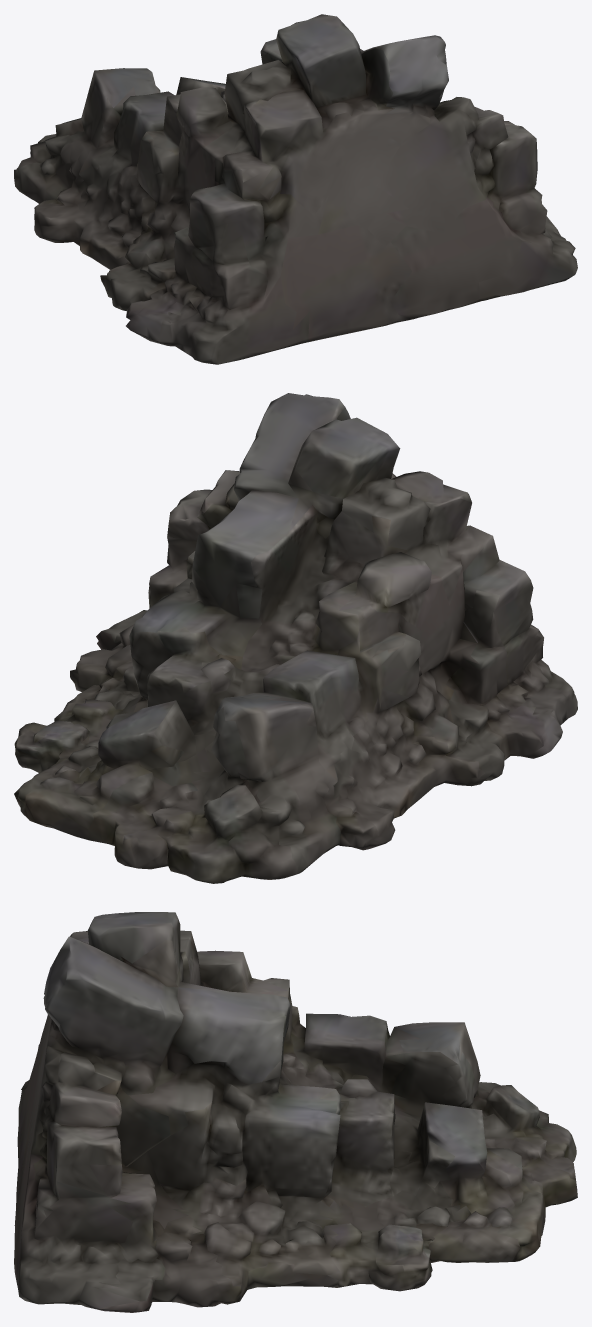
Rendered from cave-in-rubble.glb.
3 views of the same model, one above another, from view 1: azimuth 30°, elevation 25°; view 2: azimuth 150°, elevation 25°; view 3: azimuth 270°, elevation 25° (orthographic). The views are drawn at different scales.
Parts seen in each view (by area): view 1: tripo_node_9c39bf18-9c61-42cb-907d-66561e0b2ace; view 2: tripo_node_9c39bf18-9c61-42cb-907d-66561e0b2ace; view 3: tripo_node_9c39bf18-9c61-42cb-907d-66561e0b2ace.
Part boxes in pixels (x1,y1,x2,y2): tripo_node_9c39bf18-9c61-42cb-907d-66561e0b2ace: (14,14,577,364); tripo_node_9c39bf18-9c61-42cb-907d-66561e0b2ace: (14,393,577,883); tripo_node_9c39bf18-9c61-42cb-907d-66561e0b2ace: (14,912,577,1312).
Bounding box in the file's own units: 0.9358 × 0.5492 × 1.
1 material, 1 textured.
